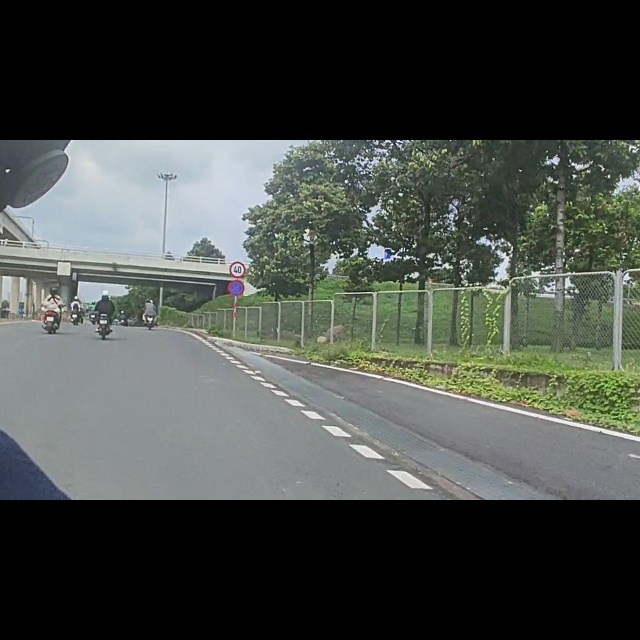bien_cam: (228, 248, 245, 279), (230, 215, 246, 245)
